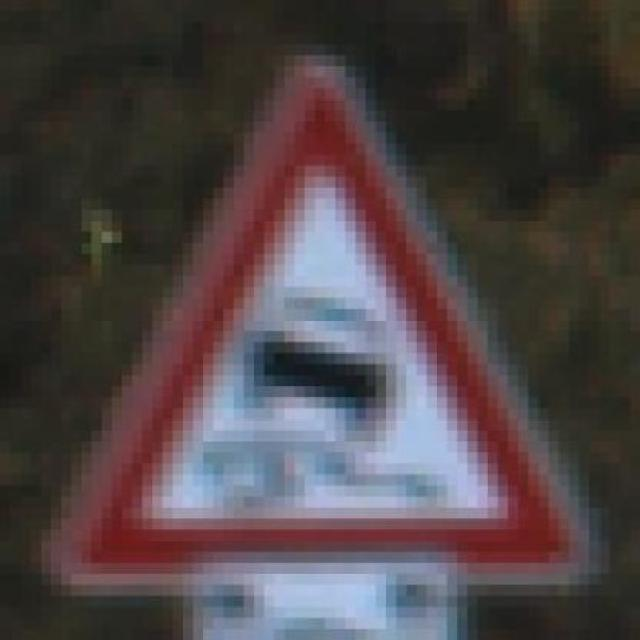Slippery Road Ahead: (50, 54, 599, 606)
